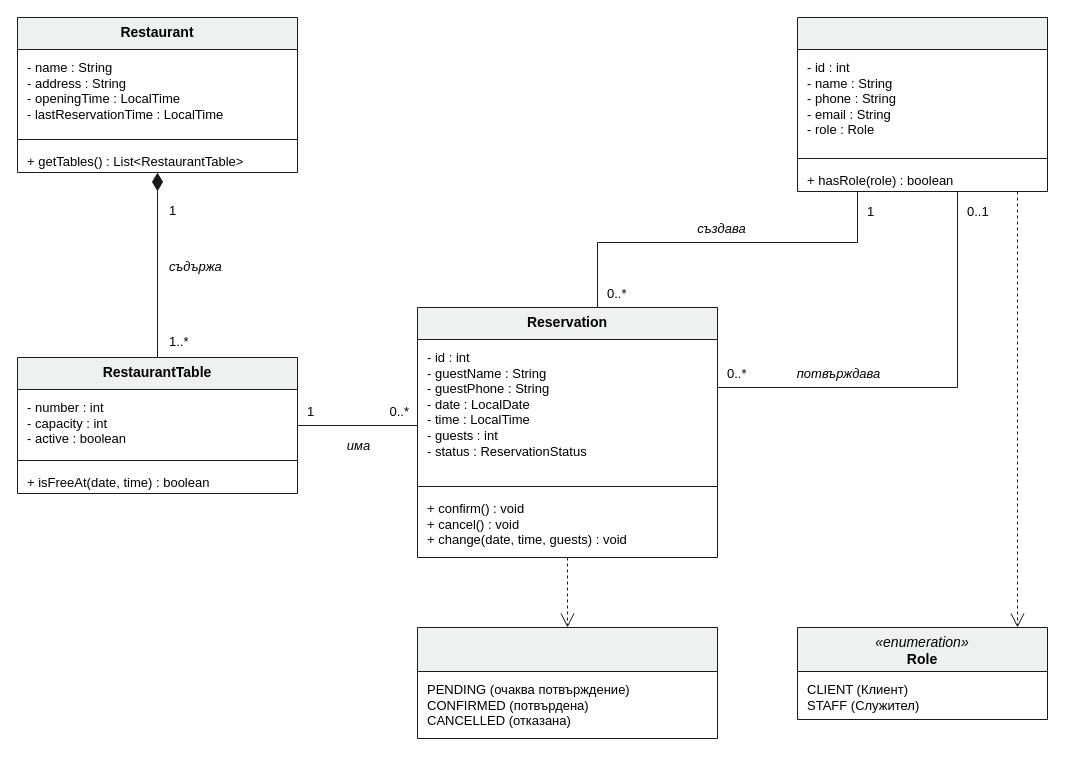
The diagram is 1065 pixels wide and 759 high, and some of its shapes have lost their labels. Here are the shapes that lost their labels. From the top down, the box of each, then its label:
(796, 16, 1048, 192): User
(416, 626, 718, 738): «enumeration» ReservationStatus
